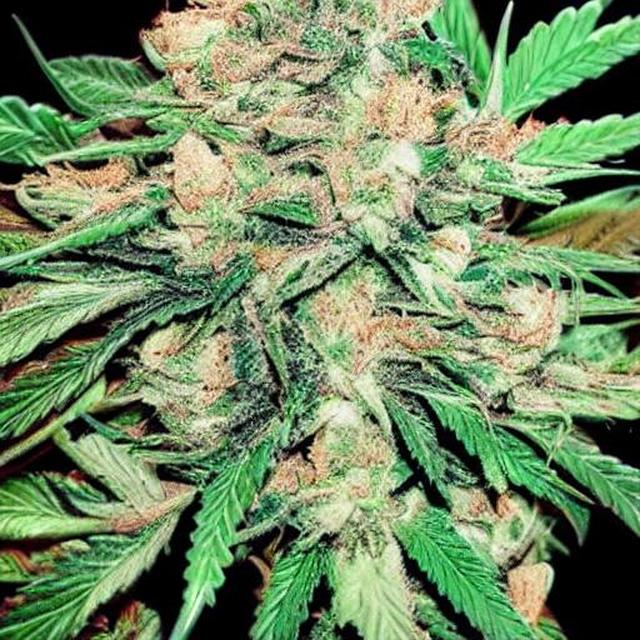Marijuana Plant: (132, 58, 639, 466)
